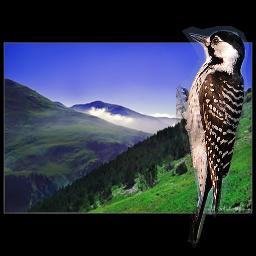Woodpecker: (176, 25, 249, 249)
